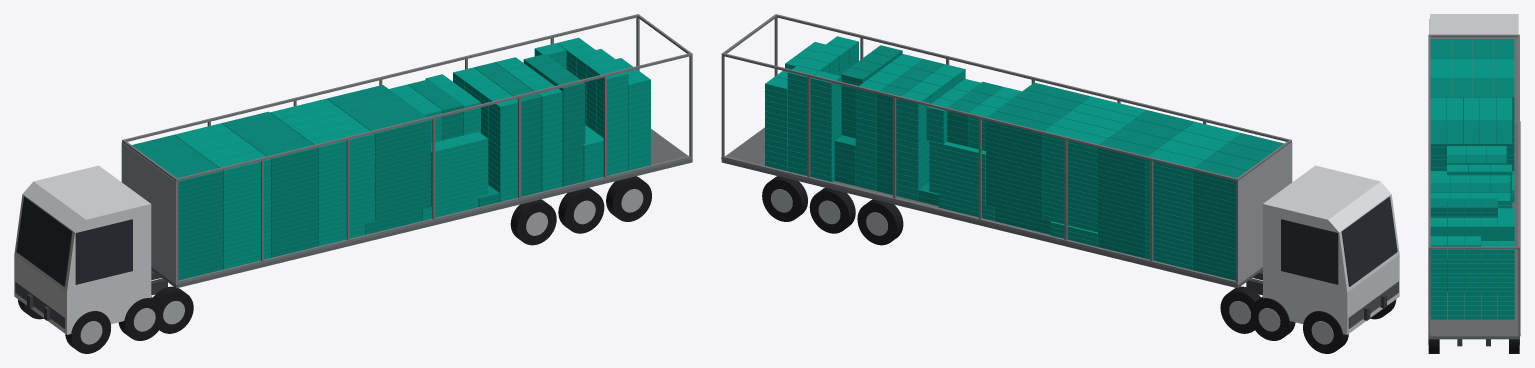
The model's file is carreta-SP12.glb.
3 renders of one model, left to right at view 1: azimuth 30°, elevation 25°; view 2: azimuth 150°, elevation 25°; view 3: azimuth 270°, elevation 25°, orthographic. The views are drawn at different scales.
Parts seen in each view (by area): view 1: cabine, frente, janela, part27, piso, part19, part18, part20, part48, part44, part52, part32 (+26 smaller); view 2: cabine, frente, piso, janela, part27, part21, part20, part18, part46, part54, part50, part42 (+25 smaller); view 3: piso, cabine, frente, part18, part532, part319, part316, part317, part318, part140, part141, part142 (+82 smaller).
Part boxes in pixels (x1=…): cabine: x1=14, y1=165, x2=151, y2=334; frente: x1=121, y1=142, x2=176, y2=284; janela: x1=75, y1=219, x2=132, y2=284; part27: x1=16, y1=196, x2=72, y2=286; piso: x1=151, y1=129, x2=692, y2=288; part19: x1=176, y1=156, x2=691, y2=284; part18: x1=175, y1=53, x2=692, y2=181; part20: x1=122, y1=14, x2=639, y2=142; part48: x1=558, y1=188, x2=604, y2=233; part44: x1=510, y1=199, x2=556, y2=245; part52: x1=606, y1=176, x2=651, y2=221; part32: x1=65, y1=311, x2=110, y2=353; cabine: x1=1263, y1=165, x2=1399, y2=334; frente: x1=1238, y1=142, x2=1292, y2=284; piso: x1=721, y1=127, x2=1262, y2=288; janela: x1=1281, y1=219, x2=1338, y2=284; part27: x1=1341, y1=196, x2=1397, y2=286; part21: x1=721, y1=156, x2=1237, y2=284; part20: x1=721, y1=53, x2=1238, y2=181; part18: x1=775, y1=14, x2=1290, y2=141; part46: x1=857, y1=199, x2=903, y2=245; part54: x1=762, y1=176, x2=807, y2=221; part50: x1=809, y1=187, x2=855, y2=233; part42: x1=1220, y1=286, x2=1260, y2=333; piso: x1=1428, y1=123, x2=1519, y2=339; cabine: x1=1430, y1=14, x2=1518, y2=34; frente: x1=1430, y1=37, x2=1517, y2=123; part18: x1=1428, y1=34, x2=1430, y2=248; part532: x1=1430, y1=121, x2=1446, y2=147; part319: x1=1493, y1=78, x2=1514, y2=100; part316: x1=1430, y1=78, x2=1451, y2=100; part317: x1=1451, y1=78, x2=1472, y2=100; part318: x1=1472, y1=78, x2=1493, y2=100; part140: x1=1430, y1=39, x2=1451, y2=58; part141: x1=1451, y1=39, x2=1472, y2=58; part142: x1=1472, y1=39, x2=1493, y2=58.
Size of the model in its own units: 17.14 by 3.99 by 2.58.
